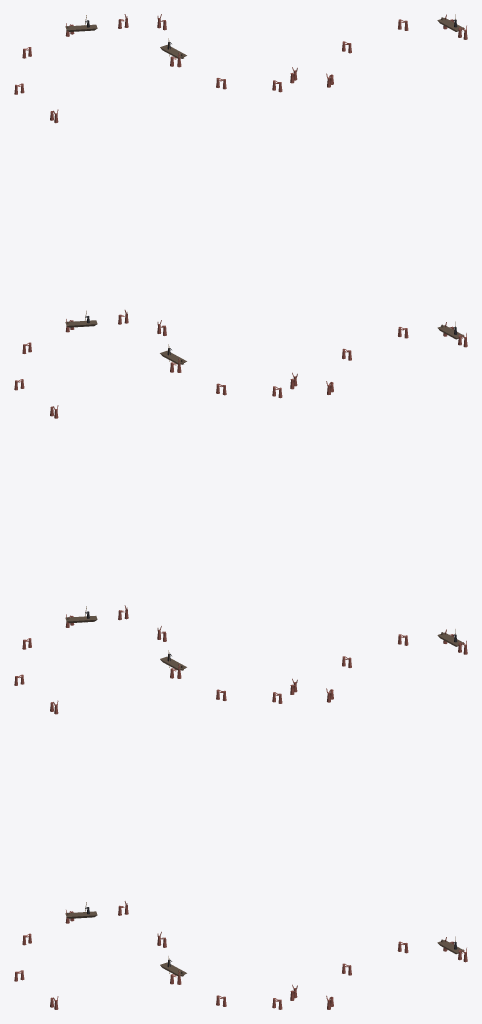
File: Circle5Folk2.obj
3 renders of one model, left to right at view 1: azimuth 30°, elevation 25°; view 2: azimuth 150°, elevation 25°; view 3: azimuth 330°, elevation 25°, orthographic. The views are drawn at different scales.
Parts seen in each view (by area): view 1: Circle5Folk2; view 2: Circle5Folk2; view 3: Circle5Folk2.
Part boxes in pixels (x1=…): Circle5Folk2: x1=14, y1=14, x2=128, y2=1009; Circle5Folk2: x1=157, y1=14, x2=297, y2=1009; Circle5Folk2: x1=326, y1=14, x2=467, y2=1009.
Bounding box in the file's own units: 27.03 × 208 × 21.36.
1 material, 1 textured.
